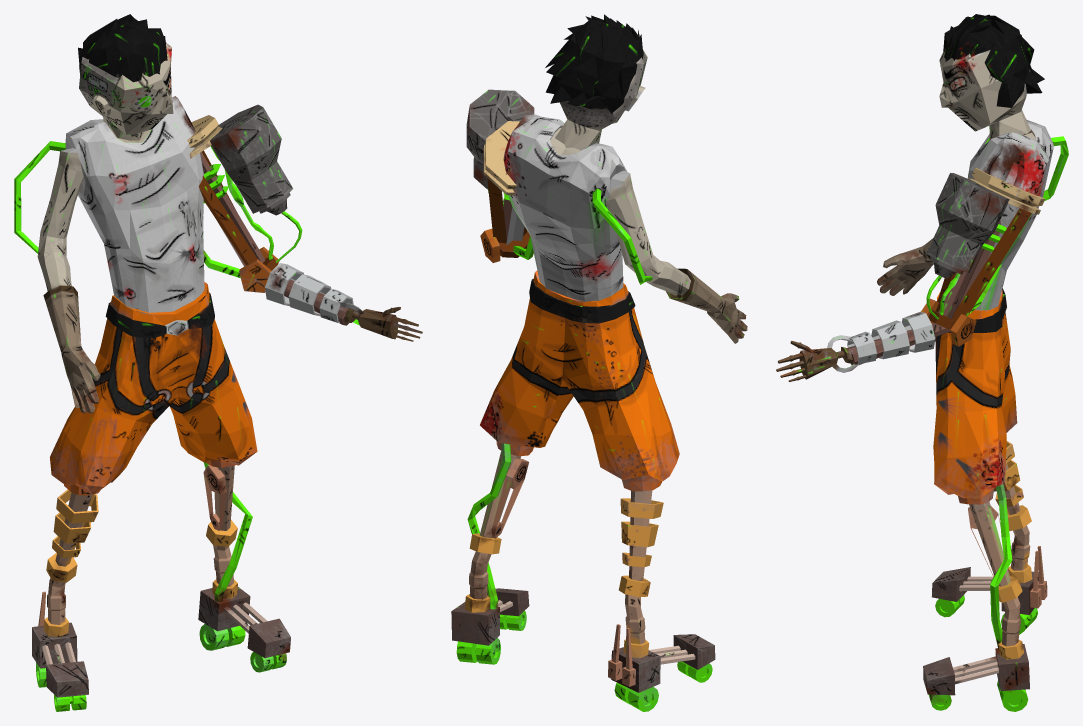
File: CyborgFINALAnimation_000013.obj
3 views of the same model, side by side, from view 1: azimuth 30°, elevation 25°; view 2: azimuth 150°, elevation 25°; view 3: azimuth 270°, elevation 25° (orthographic). The views are drawn at different scales.
Parts seen in each view (by area): view 1: CyborgMesh_Cube.002; view 2: CyborgMesh_Cube.002; view 3: CyborgMesh_Cube.002.
Boxes of the visible parts, x1,y1,x2,y2 form: CyborgMesh_Cube.002: (14, 14, 422, 711); CyborgMesh_Cube.002: (451, 14, 747, 711); CyborgMesh_Cube.002: (776, 14, 1068, 711).
Bounding box in the file's own units: 4.24 × 9.56 × 3.98.
